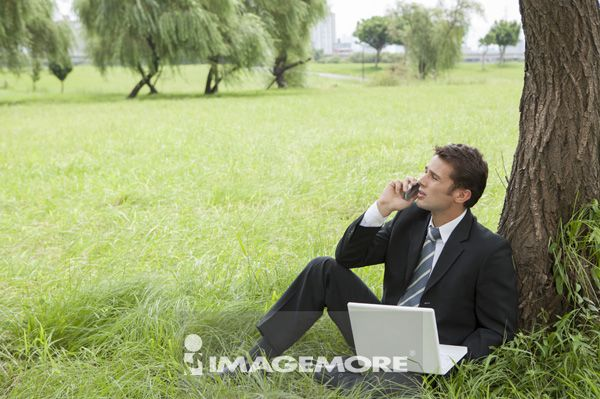talk: (378, 162, 446, 217)
